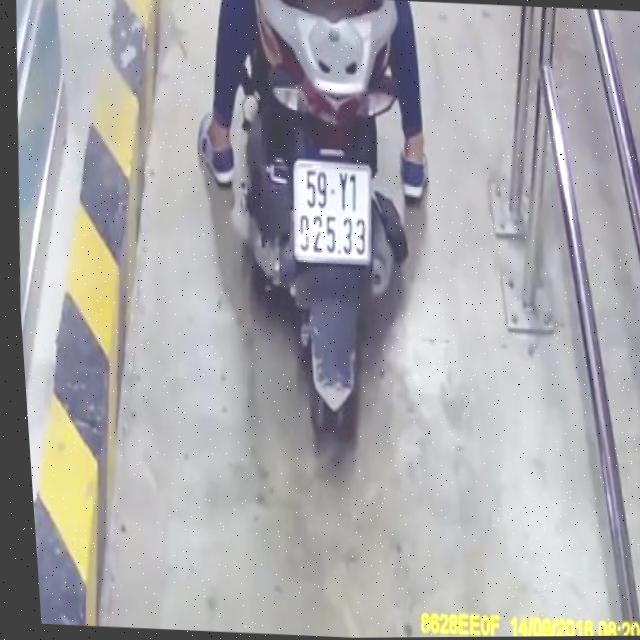motorcycle: (200, 0, 450, 464)
plate: (279, 151, 383, 269)
